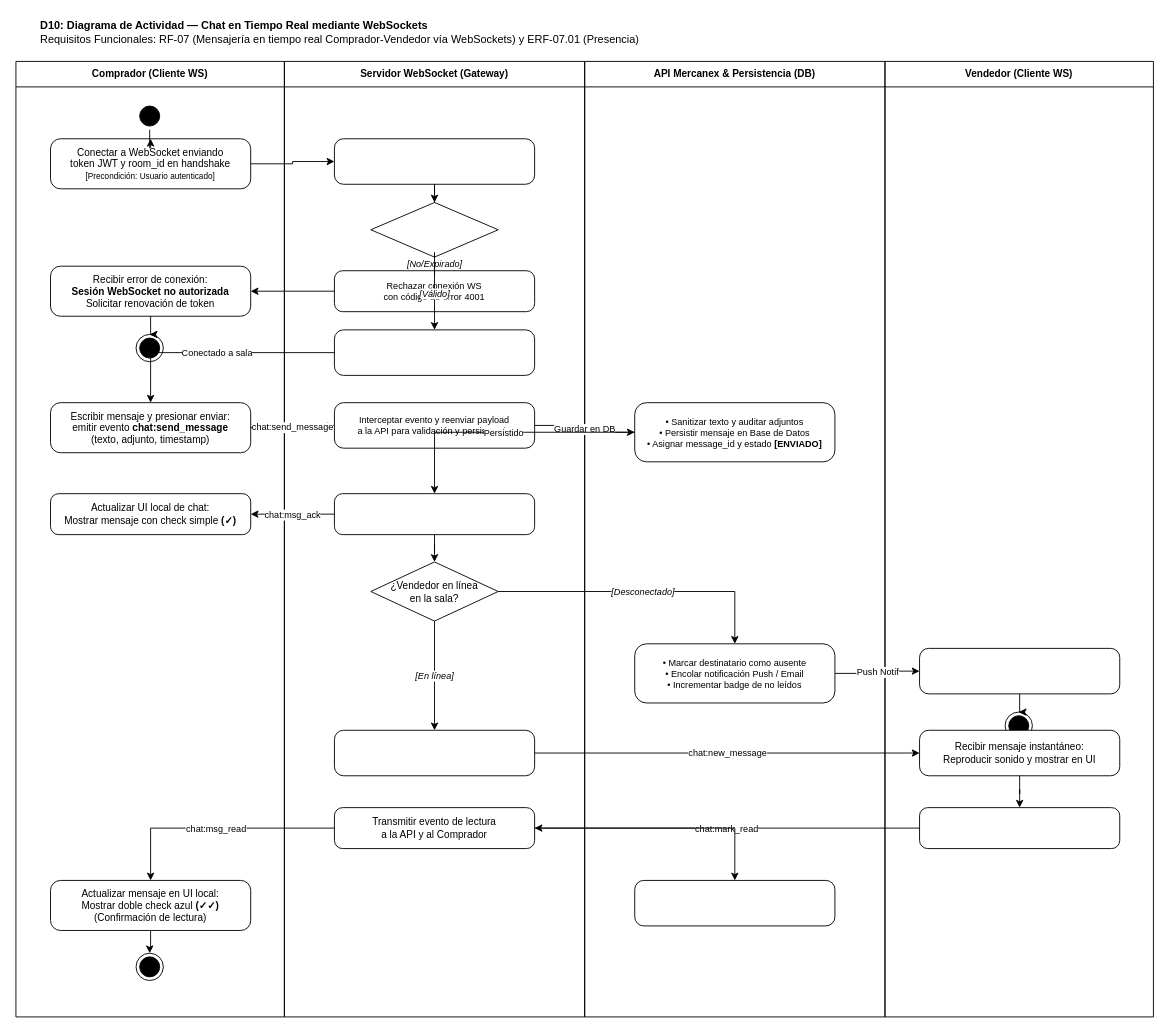
Image size: 1169x1033. Some labels were removed from this diagram. The centre of each missing label's shape, as x and y in pixels:
Actualizar estado en Base de Datos: [LEÍDO] con fecha/hora de lectura: [734,903]
Asociar socket_id al usuario y unir a la sala de chat privada: [434,352]
Emitir broadcast en tiempo real: evento chat:new_message: [434,752]
Emitir confirmación al remitente evento chat:msg_ack: [434,514]
Recibir alerta externa (Push/Email): "Tienes un nuevo mensaje en chat": [1019,670]
Validar firma de token JWT y permisos de acceso a la sala: [434,161]
Vendedor enfoca el chat: Emitir evento chat:mark_read: [1019,828]
¿Token JWT válido?: [434,229]
